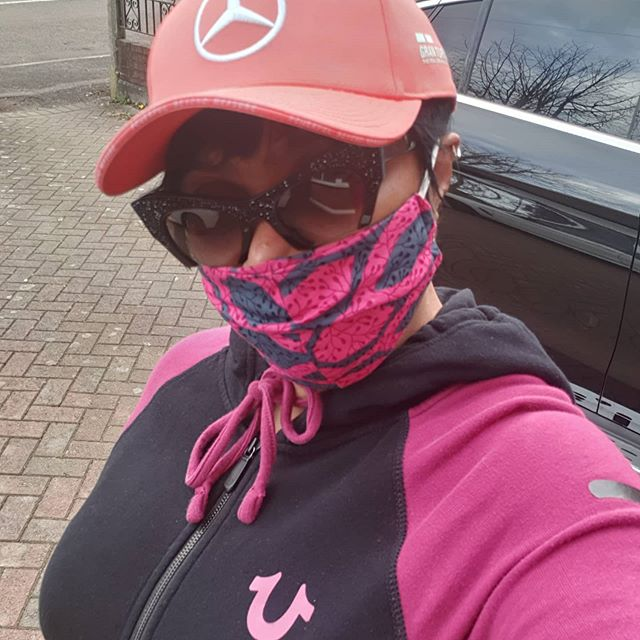homemade: (183, 204, 441, 384)
